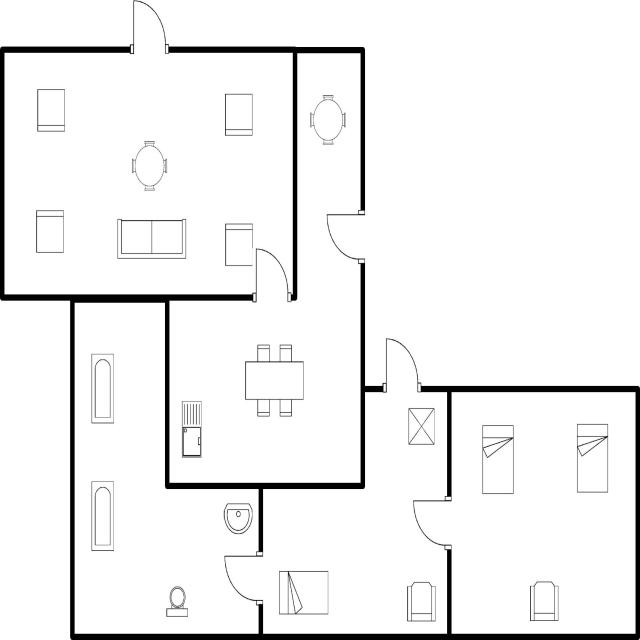armchair: (526, 574, 562, 624), (404, 578, 438, 624)
bed: (275, 564, 333, 620), (572, 418, 612, 498), (479, 420, 517, 500)
coffee_table: (404, 402, 438, 450)
dining_table: (241, 340, 307, 420)
large_sink: (163, 582, 192, 622)
large_sofa: (113, 215, 189, 262)
round_table: (306, 90, 349, 151), (126, 136, 172, 193)
sink: (178, 398, 204, 461)
small_sink: (219, 498, 255, 538)
small_sofa: (32, 81, 68, 137), (220, 88, 256, 140), (32, 206, 66, 260), (221, 219, 255, 270)
tub: (88, 475, 118, 558), (88, 349, 118, 427)
